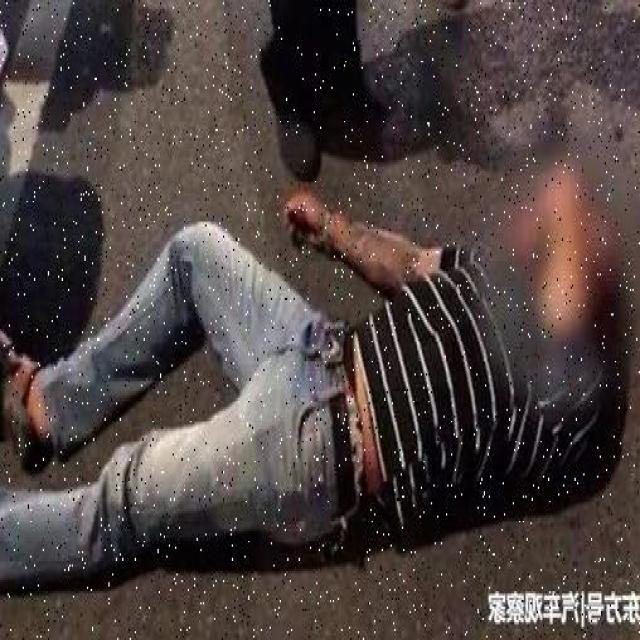fall: (8, 160, 620, 582)
